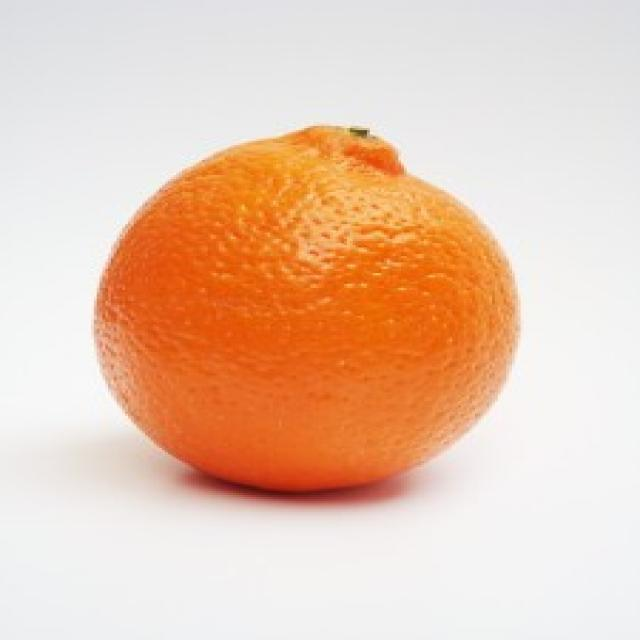Orange: (91, 124, 526, 506)
